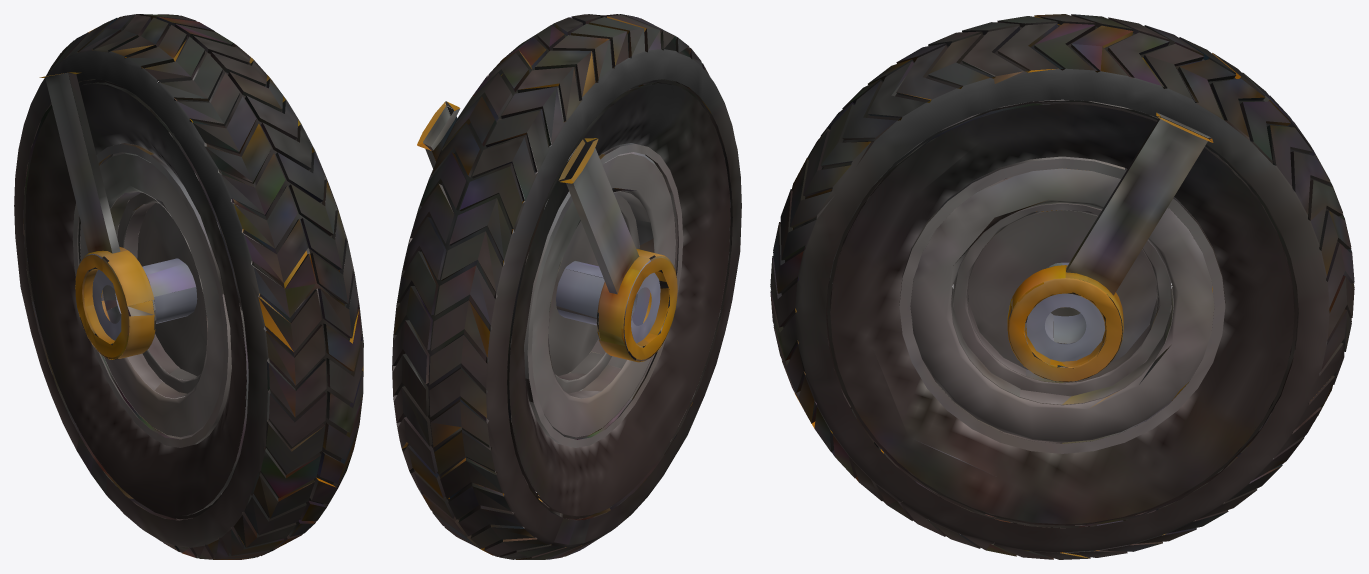
File: bike_wheel_front.glb
3 renders of one model, left to right at view 1: azimuth 30°, elevation 25°; view 2: azimuth 150°, elevation 25°; view 3: azimuth 270°, elevation 25°, orthographic. The views are drawn at different scales.
Visible parts, largest first — view 1: bike_wheel_front; view 2: bike_wheel_front; view 3: bike_wheel_front.
Part boxes in pixels (x1=…): bike_wheel_front: x1=14, y1=14, x2=363, y2=559; bike_wheel_front: x1=392, y1=14, x2=741, y2=559; bike_wheel_front: x1=770, y1=14, x2=1354, y2=559.
Size of the model in its own units: 0.2739 by 0.7709 by 0.7709.
1 material, 1 textured.
